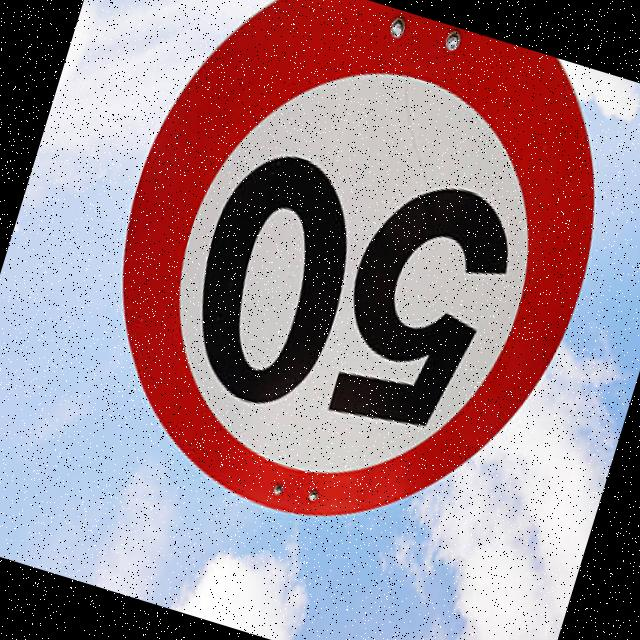speed_limit_50: (34, 0, 640, 591)
